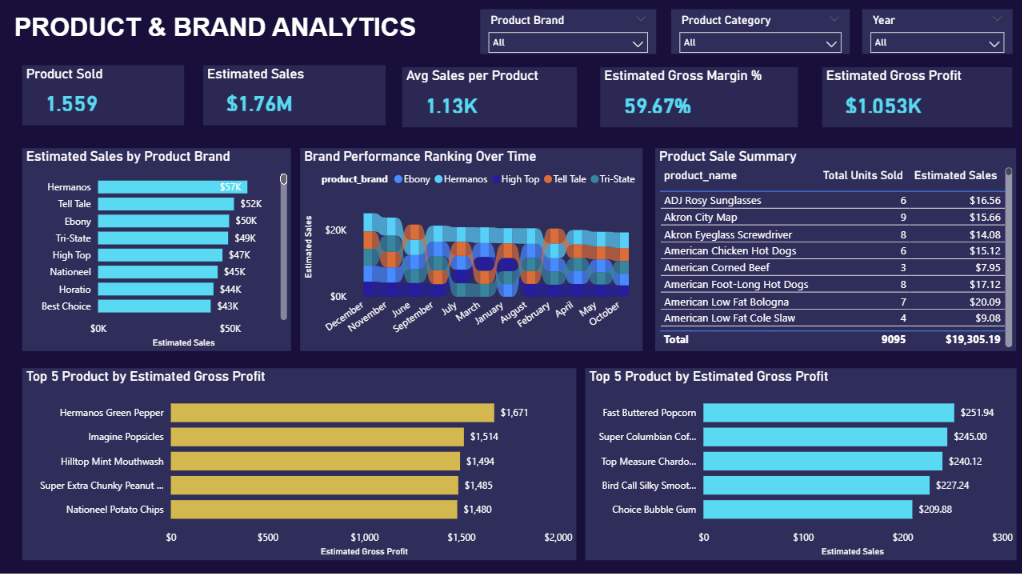

What the dashboard file says about the page in this screenshot:
{"tool":"powerbi","page":{"name":"Product & Brand Analytics","canvas":[1280,720],"ordinal":2},"visuals":[{"type":"slicer","fields":{"Values":["dim_date.year"]},"box":[1078.7,12.3,187.9,56.3],"z":0,"group":"g2"},{"type":"textbox","title":"Re","box":[14.3,12.8,560.2,69.8],"z":0},{"type":"cardVisual","title":"Product Sold","fields":{"Data":["Measure_Table.Products Sold"]},"box":[28.8,82.3,202.4,74.8],"z":0,"group":"g3"},{"type":"cardVisual","title":"Estimated Gross Margin %","fields":{"Data":["Measure_Table.Estimated Gross Margin %"]},"box":[751,84.3,247.3,74.8],"z":0,"group":"g1"},{"type":"slicer","fields":{"Values":["dim_product.product_brand"]},"box":[601,12.3,219.9,56.3],"z":1000,"group":"g2"},{"type":"group","id":"g1","title":"Group 1","box":[28.8,82.3,1237.7,76.8],"z":1000},{"type":"cardVisual","title":"Estimated Sales","fields":{"Data":["Measure_Table.Estimated Sales"]},"box":[254.8,82.9,228,74.8],"z":1000,"group":"g1"},{"type":"group","id":"g2","title":"Group 2","box":[601,12.3,665.5,56.3],"z":2000},{"type":"slicer","fields":{"Values":["dim_product.product_name"]},"box":[839.8,12.3,222.8,56.3],"z":2000,"group":"g2"},{"type":"cardVisual","title":"Avg Sales per Product","fields":{"Data":["Measure_Table.Avg Sales per Product"]},"box":[503.7,84.3,218.4,74.8],"z":2000,"group":"g1"},{"type":"cardVisual","title":"Estimated Gross Profit","fields":{"Data":["Measure_Table.Estimated Gross Profit"]},"box":[1028.9,84.3,237.7,74.8],"z":3000,"group":"g1"},{"type":"tableEx","title":"Product Sale Summary","fields":{"Values":["dim_product.product_name","Measure_Table.Total Units Sold","Measure_Table.Estimated Sales"]},"box":[820.6,186.6,451.5,253.9],"z":3000},{"type":"group","id":"g3","title":"Group 6","box":[28.8,82.3,202.4,74.8],"z":4000,"group":"g1"},{"type":"barChart","title":"Estimated Sales by Product Brand","fields":{"Y":["Measure_Table.Estimated Sales"],"Category":["dim_product.product_brand"]},"box":[28.8,186.6,336.2,253.9],"z":4000},{"type":"ribbonChart","title":"Brand Performance Ranking Over Time","fields":{"Y":["Measure_Table.Estimated Sales"],"Series":["dim_product.product_brand"],"Category":["dim_date.month_name"]},"box":[376,186.6,428.1,253.9],"z":5000},{"type":"barChart","title":"Top 5 Product by Estimated Gross Profit","fields":{"Category":["dim_product.product_name"],"Y":["Measure_Table.Estimated Gross Profit"]},"box":[28.8,461.1,693,240.1],"z":6000},{"type":"barChart","title":"Top 5 Product by Estimated Gross Profit","fields":{"Category":["dim_product.product_name"],"Y":["Measure_Table.Estimated Sales"]},"box":[732.8,461.1,539.3,240.1],"z":7000}]}

Visuals, with their boxes in screenshot pixels (x1, y1, x2, y2), scaled from the page's 1280x720 canvas onto the 1022x574 screenshot:
slicer - dim_date.year: detection(861, 10, 1011, 55)
"Re" textbox: detection(11, 10, 459, 66)
"Product Sold" cardVisual: detection(23, 66, 185, 125)
"Estimated Gross Margin %" cardVisual: detection(600, 67, 797, 127)
slicer - dim_product.product_brand: detection(480, 10, 655, 55)
"Group 1" group: detection(23, 66, 1011, 127)
"Estimated Sales" cardVisual: detection(203, 66, 385, 126)
"Group 2" group: detection(480, 10, 1011, 55)
slicer - dim_product.product_name: detection(671, 10, 848, 55)
"Avg Sales per Product" cardVisual: detection(402, 67, 577, 127)
"Estimated Gross Profit" cardVisual: detection(822, 67, 1011, 127)
"Product Sale Summary" tableEx: detection(655, 149, 1016, 351)
"Group 6" group: detection(23, 66, 185, 125)
"Estimated Sales by Product Brand" barChart: detection(23, 149, 291, 351)
"Brand Performance Ranking Over Time" ribbonChart: detection(300, 149, 642, 351)
"Top 5 Product by Estimated Gross Profit" barChart: detection(23, 368, 576, 559)
"Top 5 Product by Estimated Gross Profit" barChart: detection(585, 368, 1016, 559)
